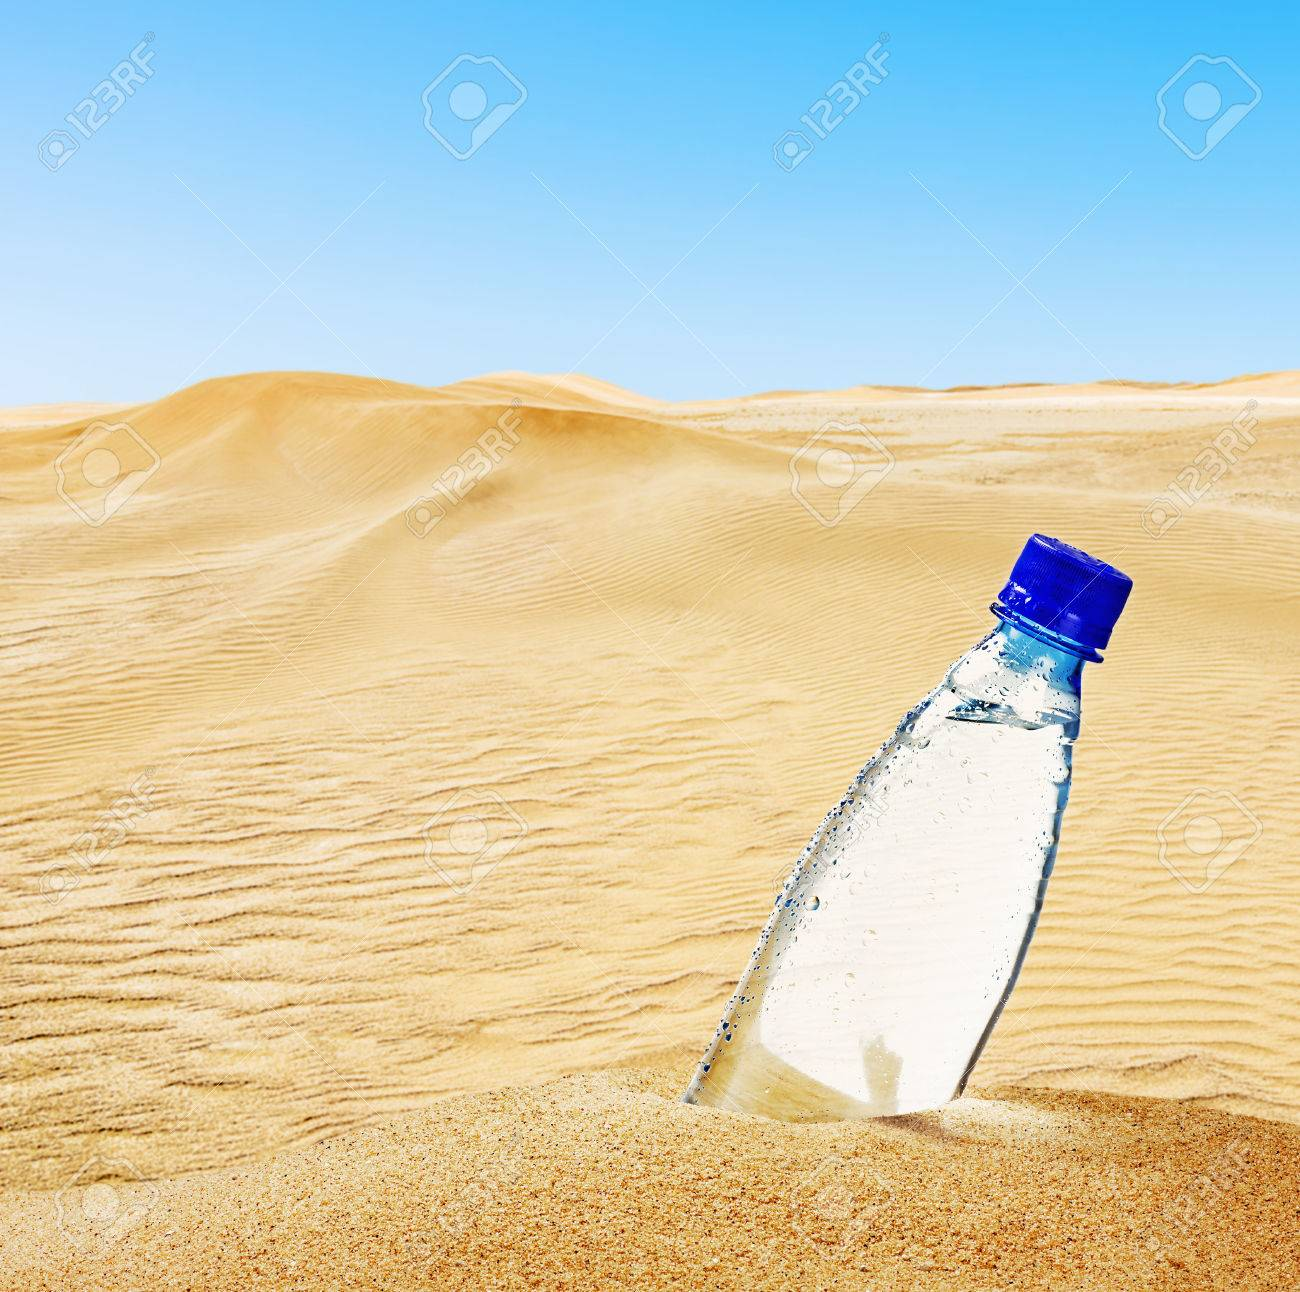plastic_bottle: (666, 521, 1160, 1125)
